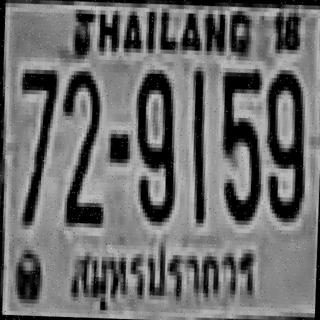N01: (187, 69, 207, 221)
N02: (60, 66, 104, 224)
N05: (218, 68, 262, 221)
N07: (15, 65, 57, 222)
N09: (132, 69, 177, 222), (262, 65, 306, 218)
P57: (66, 238, 259, 316)
